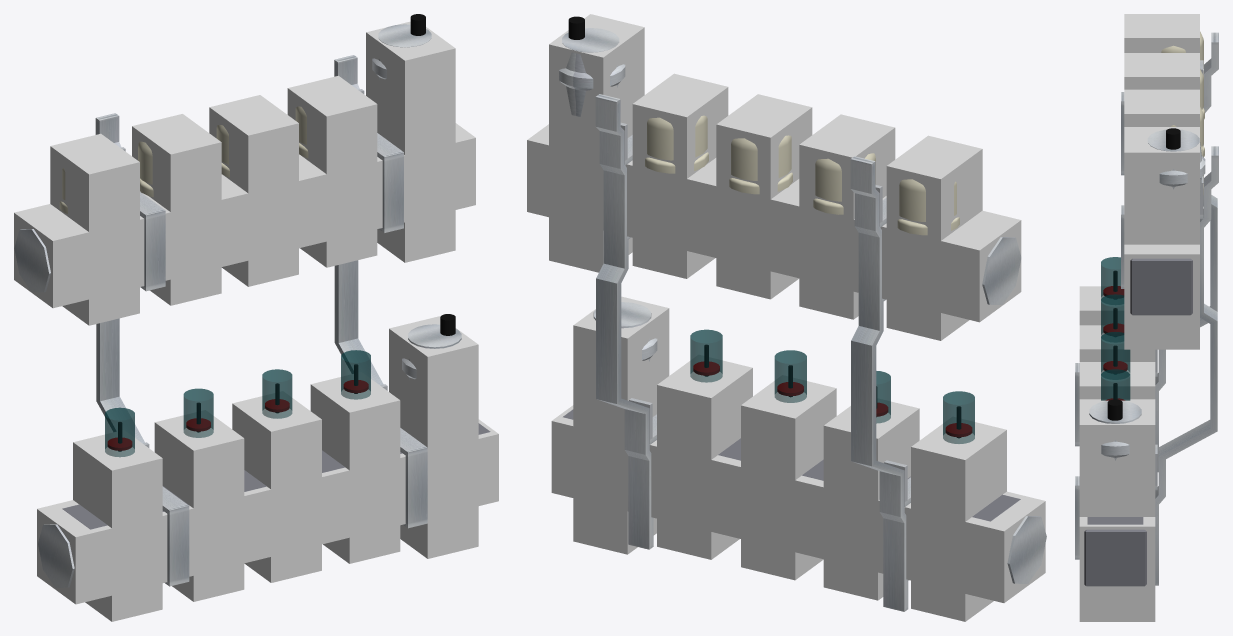
Rendered from kollector_1.fbx.
The picture shows the model from 3 angles, left to right: view 1: azimuth 30°, elevation 25°; view 2: azimuth 150°, elevation 25°; view 3: azimuth 270°, elevation 25°; orthographic projection. The views are drawn at different scales.
Parts seen in each view (by area): view 1: kollektr_COL_, kollektr_2_4; view 2: kollektr_COL_, kollektr_2_4; view 3: kollektr_COL_, kollektr_2_4.
Boxes of the visible parts, x1=… form: kollektr_COL_: x1=14, y1=21, x2=498, y2=621; kollektr_2_4: x1=14, y1=14, x2=490, y2=587; kollektr_COL_: x1=527, y1=14, x2=1045, y2=621; kollektr_2_4: x1=559, y1=16, x2=1046, y2=611; kollektr_COL_: x1=1079, y1=14, x2=1199, y2=621; kollektr_2_4: x1=1075, y1=31, x2=1218, y2=586.
Bounding box in the file's own units: 0.3259 × 0.3623 × 0.0974.
Materials: 7 (2 with a texture image).
